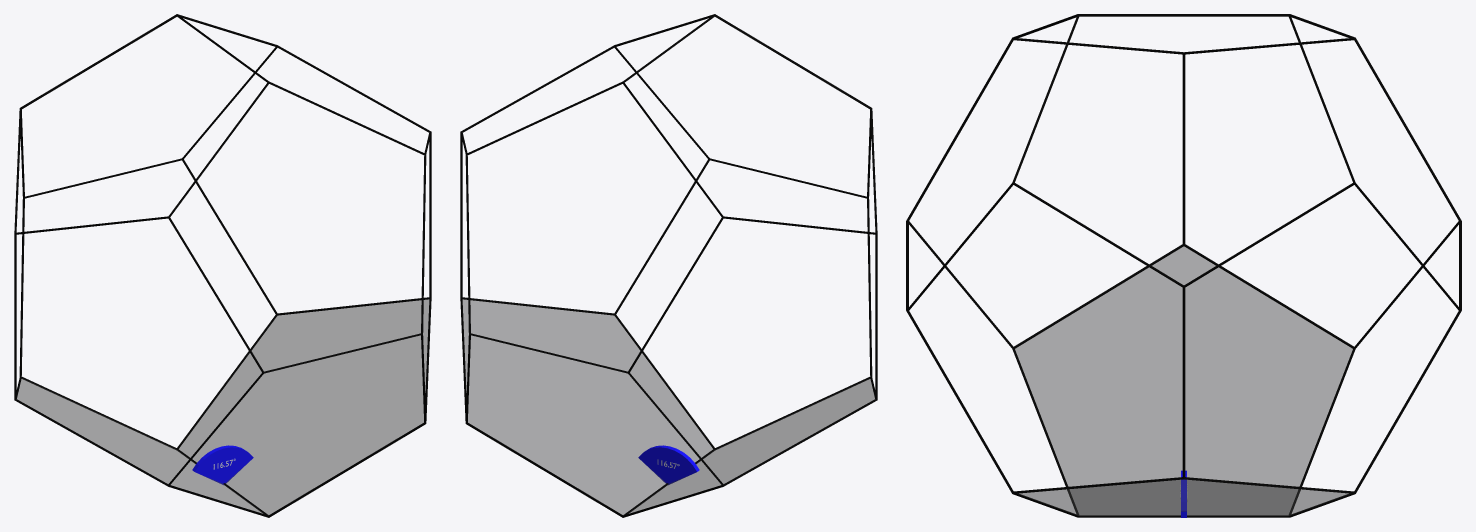
Rendered from Ang_diedro.glb.
The picture shows the model from 3 angles, left to right: view 1: azimuth 30°, elevation 25°; view 2: azimuth 150°, elevation 25°; view 3: azimuth 270°, elevation 25°; orthographic projection. The views are drawn at different scales.
Visible parts, largest first — view 1: Solid.001, Solid, Circle; view 2: Solid.001, Solid, Circle; view 3: Solid.001, Solid.
Part boxes in pixels (box(x1,y1,x2,y2)): Solid.001: box(17, 299, 429, 514); Solid: box(14, 14, 431, 517); Circle: box(192, 445, 253, 484); Solid.001: box(462, 299, 874, 514); Solid: box(460, 14, 877, 517); Circle: box(638, 445, 699, 484); Solid.001: box(1015, 246, 1352, 516); Solid: box(906, 14, 1461, 517).
Bounding box in the file's own units: 1.88 × 1.88 × 1.88.
